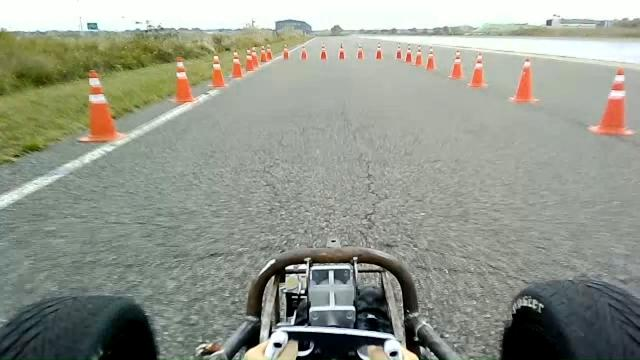red cone: (75, 68, 128, 143), (587, 66, 636, 136), (508, 56, 540, 102), (168, 56, 198, 103), (467, 52, 488, 88), (206, 54, 226, 88), (448, 49, 464, 80), (230, 50, 244, 78), (426, 46, 436, 70), (413, 45, 422, 66), (251, 48, 259, 68), (245, 54, 254, 71), (404, 44, 412, 63), (375, 42, 383, 59), (320, 42, 327, 60), (356, 44, 364, 59), (395, 43, 402, 60), (338, 42, 345, 59), (260, 46, 267, 62), (300, 45, 307, 60), (283, 43, 289, 59)
